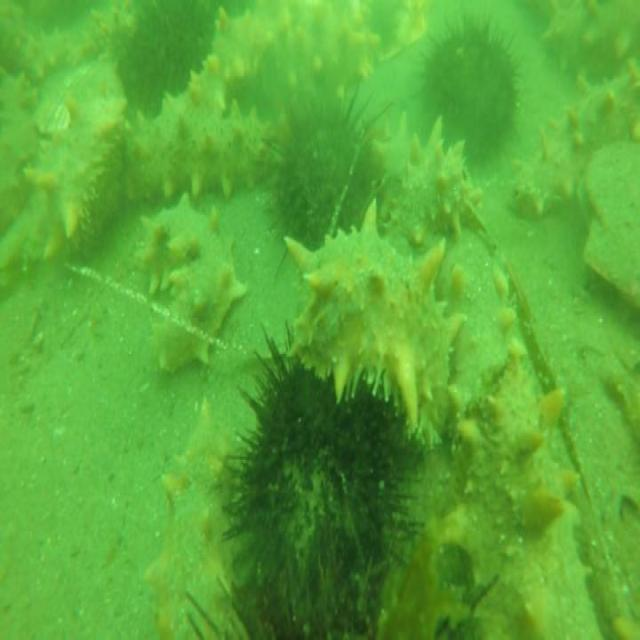echinus: (227, 319, 424, 637), (264, 80, 380, 250), (412, 9, 526, 174), (118, 0, 206, 125)
holothurian: (438, 218, 594, 637), (279, 204, 459, 442), (177, 0, 381, 119), (508, 62, 640, 218), (159, 400, 244, 640), (29, 56, 126, 266), (136, 201, 244, 373), (127, 101, 278, 202), (375, 114, 489, 238), (12, 0, 140, 92), (542, 0, 640, 74), (0, 66, 44, 222)
scallop: (574, 133, 640, 311)
